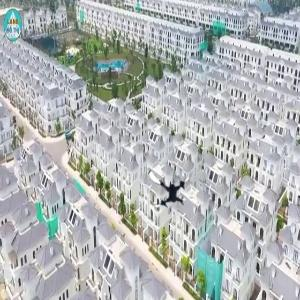drone: (144, 163, 195, 214)
